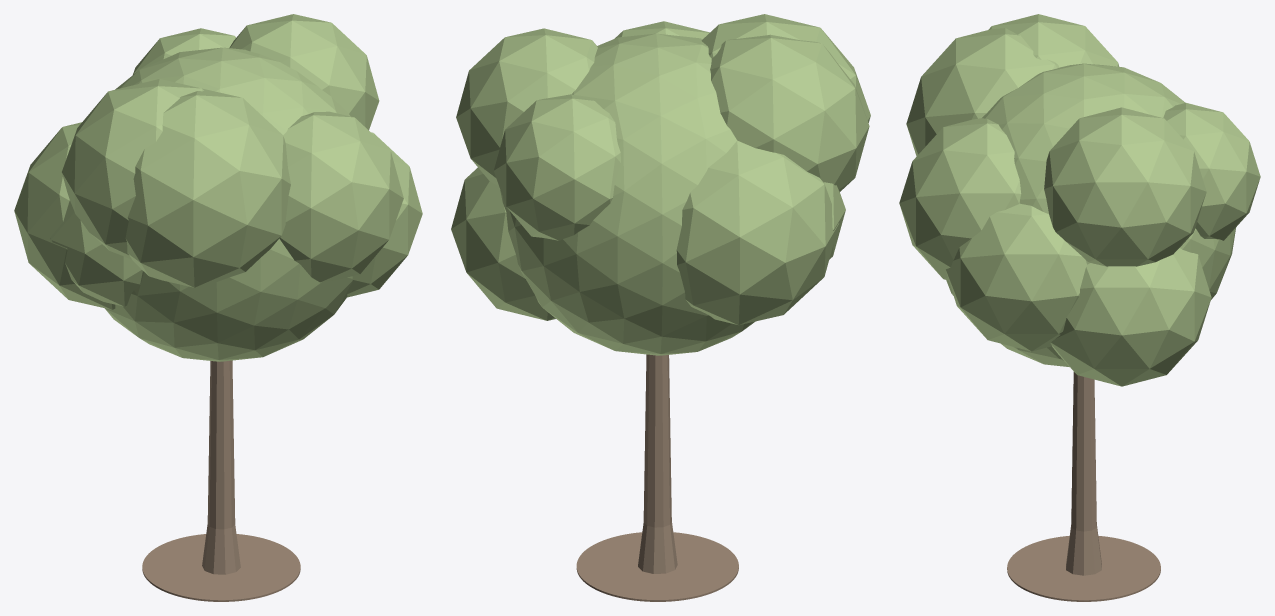
The model's file is tree_b.glb.
3 views of the same model, side by side, from view 1: azimuth 30°, elevation 25°; view 2: azimuth 150°, elevation 25°; view 3: azimuth 270°, elevation 25° (orthographic). The views are drawn at different scales.
Parts seen in each view (by area): view 1: tree_b_leaf2, tree_b_mulch, tree_b_bark; view 2: tree_b_leaf2, tree_b_mulch, tree_b_bark; view 3: tree_b_leaf2, tree_b_mulch, tree_b_bark.
Boxes of the visible parts, <box> form: tree_b_leaf2: <box>14,14,422,361</box>; tree_b_mulch: <box>142,534,300,601</box>; tree_b_bark: <box>202,360,240,574</box>; tree_b_leaf2: <box>451,14,870,355</box>; tree_b_mulch: <box>576,532,738,601</box>; tree_b_bark: <box>638,354,677,573</box>; tree_b_leaf2: <box>899,14,1260,386</box>; tree_b_mulch: <box>1007,536,1160,601</box>; tree_b_bark: <box>1066,372,1101,575</box>.
Size of the model in its own units: 4.07 by 5.81 by 3.76.
